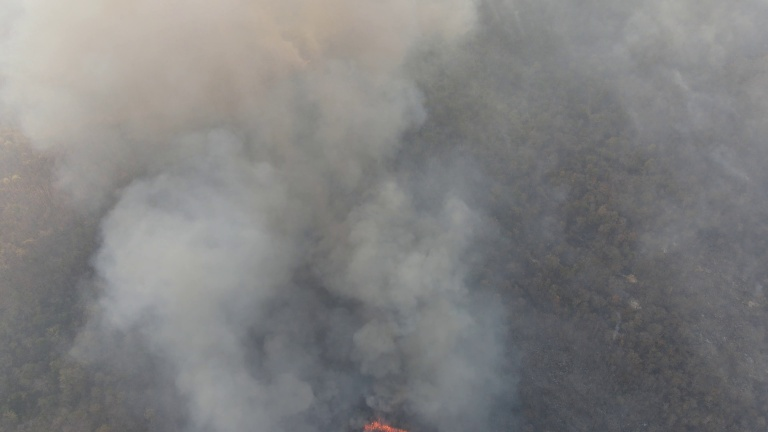fire: (341, 414, 410, 432)
smoke: (63, 1, 456, 175), (107, 182, 320, 415), (346, 191, 517, 418)
